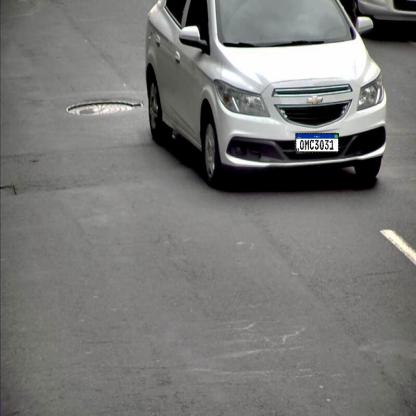PlacaM: (295, 133, 339, 153)
